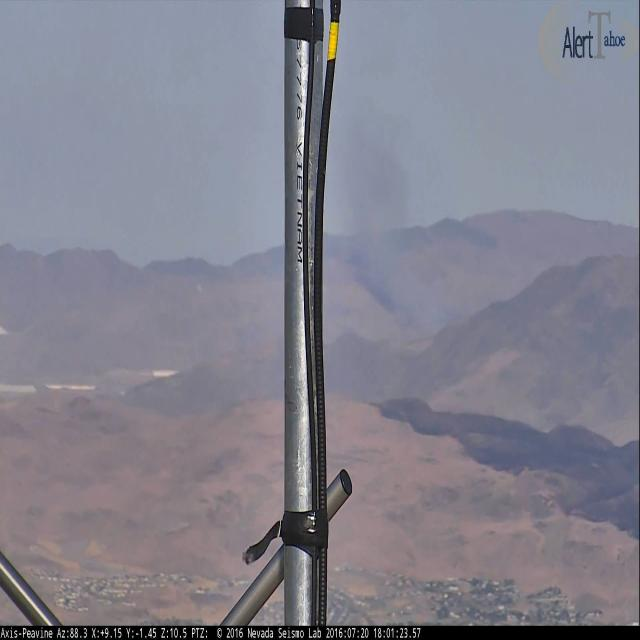smoke: (338, 4, 448, 333)
